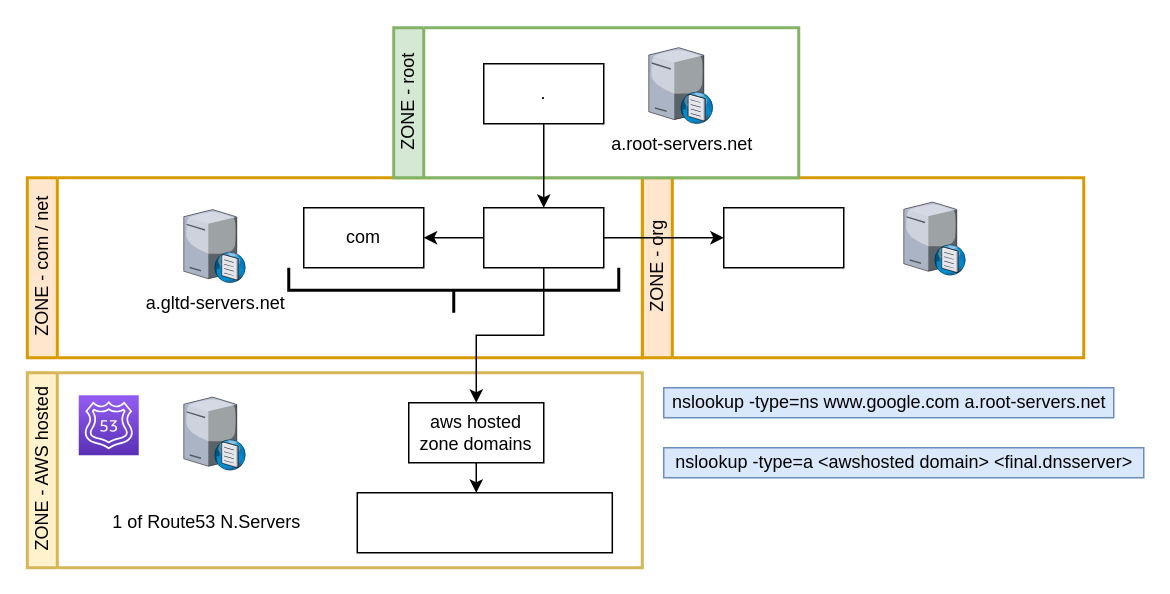
Some shapes in this 1170 by 594 pixel diagram are drawn without their labels. Each missing label, with the centre of its shape:
"a0.orgafilias-nst.info" goes at (934,237).
"net" goes at (543,237).
"ns-517.awsdns-00.net" goes at (214,432).
"org" goes at (783,237).
"satbasu.hosted.net" goes at (484,522).
